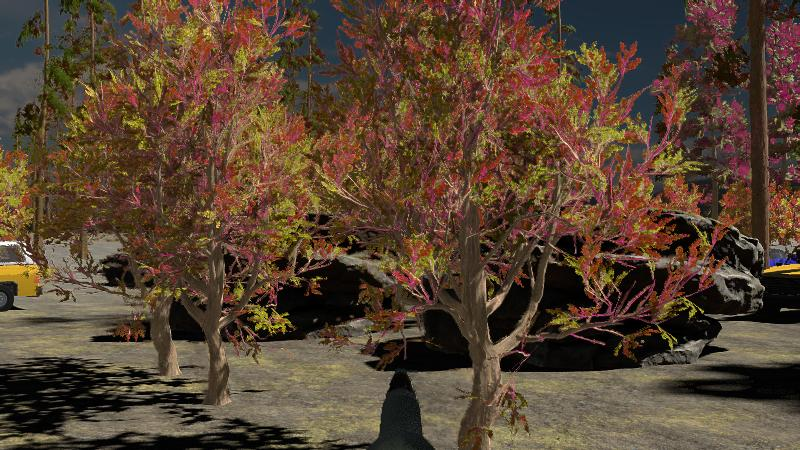car: (0, 238, 43, 314), (761, 241, 800, 319)
